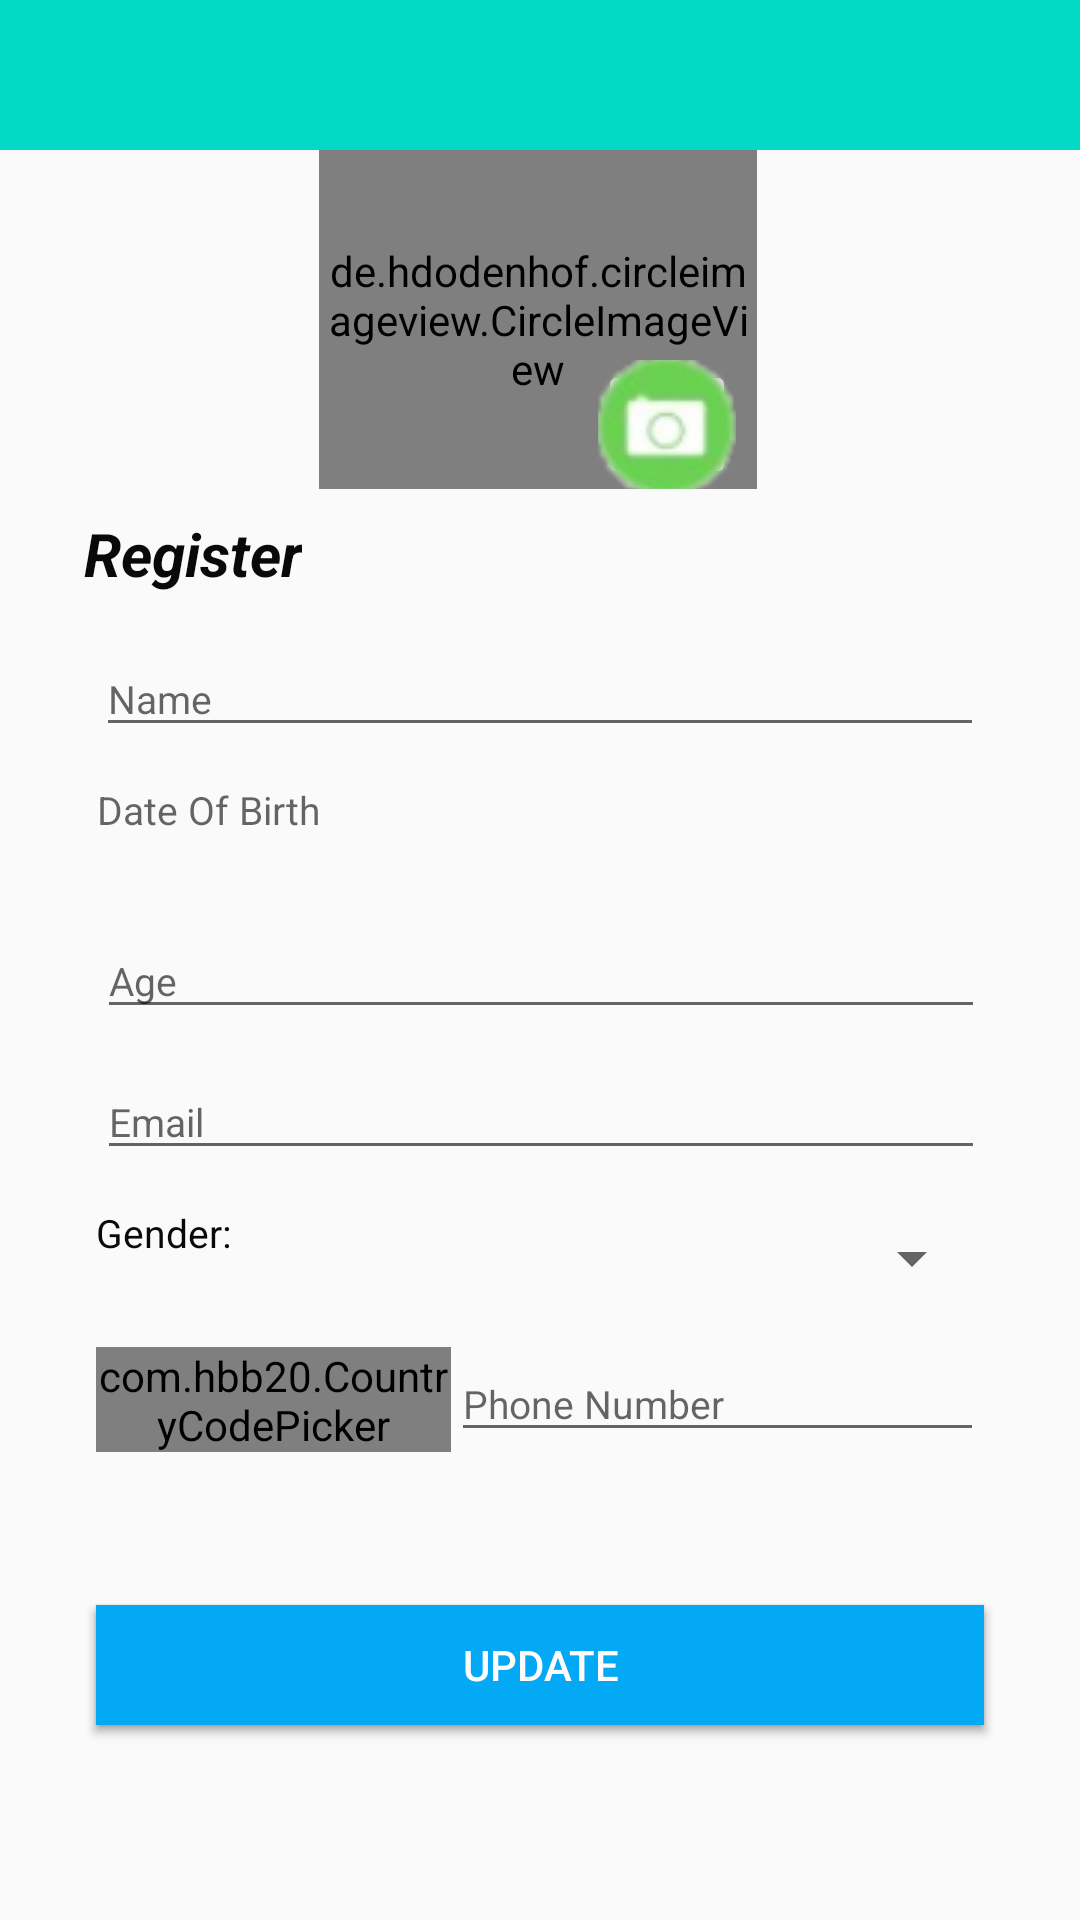

Icon bounding boxes for this 1080*1920 phone screenshot, format (x1, y1, x2, y2):
camera: (598, 360, 736, 489)
